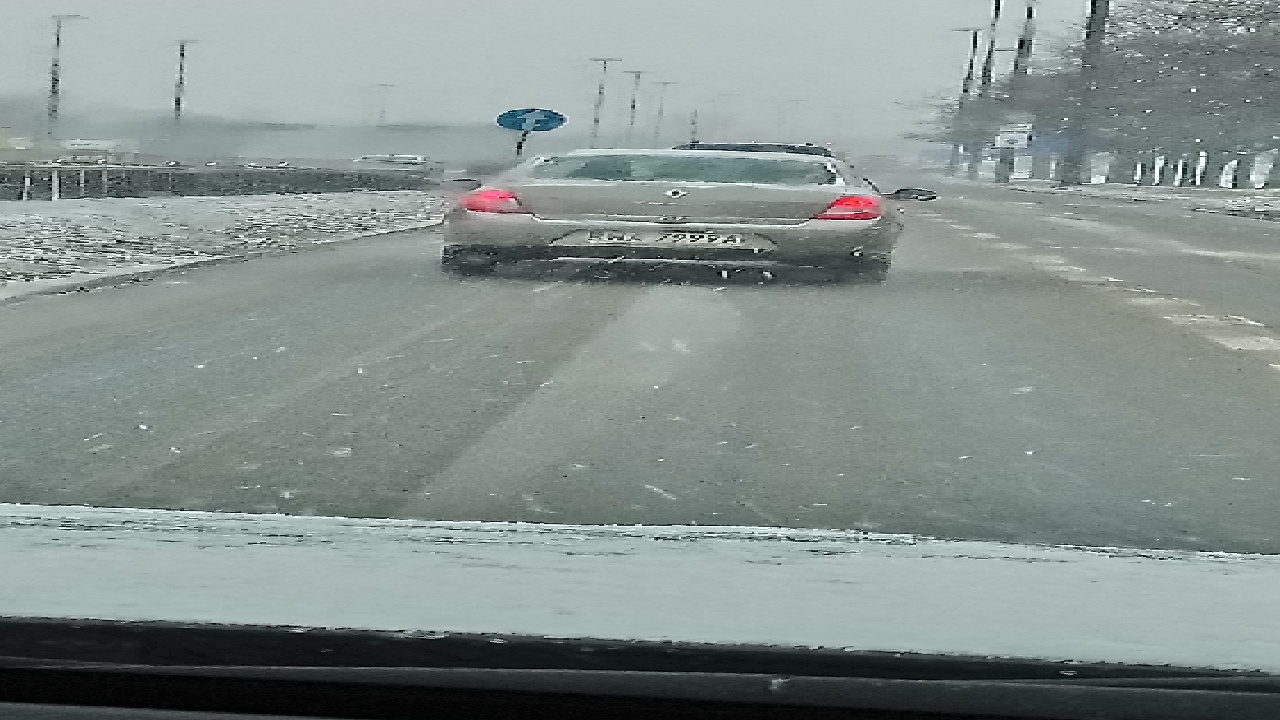C5: (489, 106, 571, 137)
